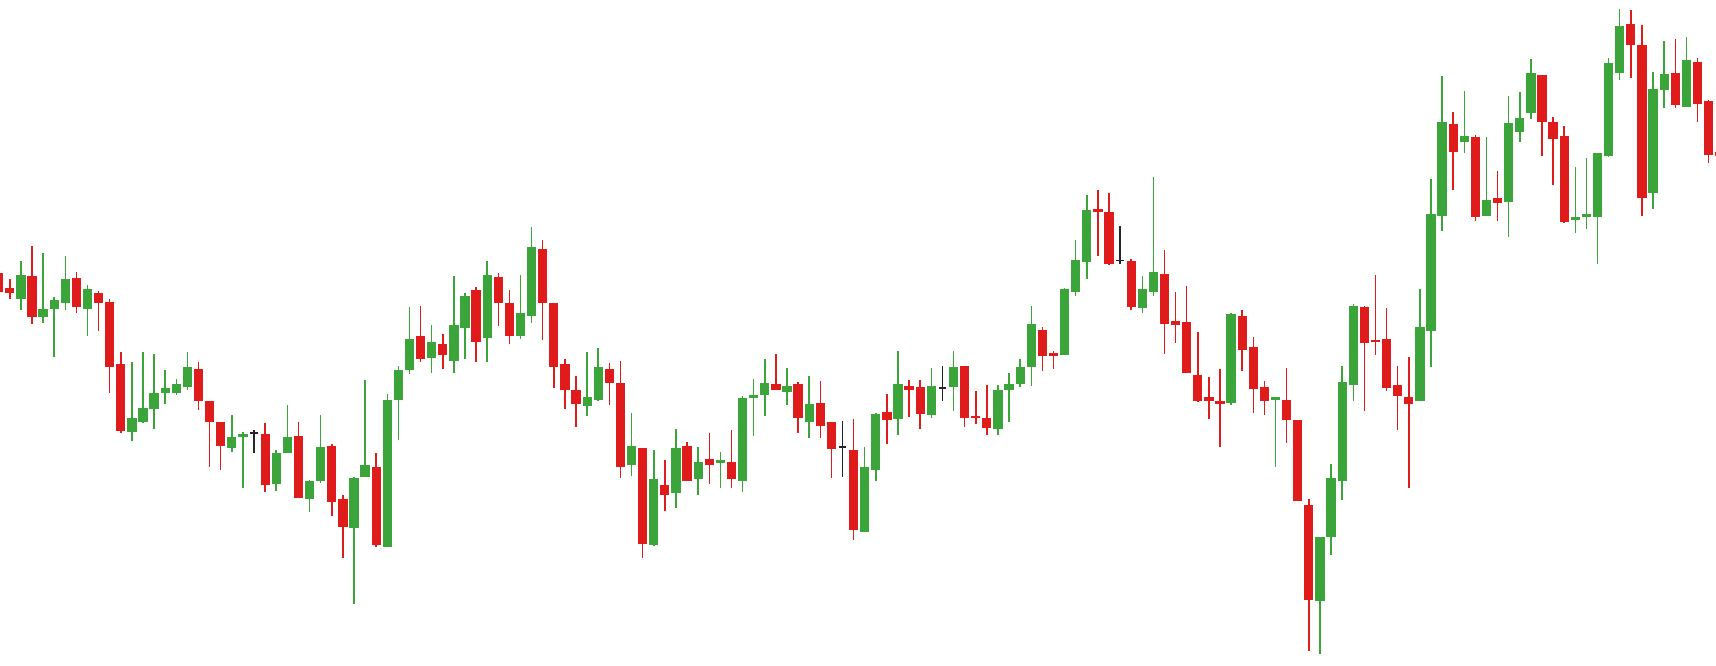buy: (1491, 85, 1604, 277), (715, 418, 872, 549), (915, 372, 1005, 443)
sell: (482, 220, 549, 340)
